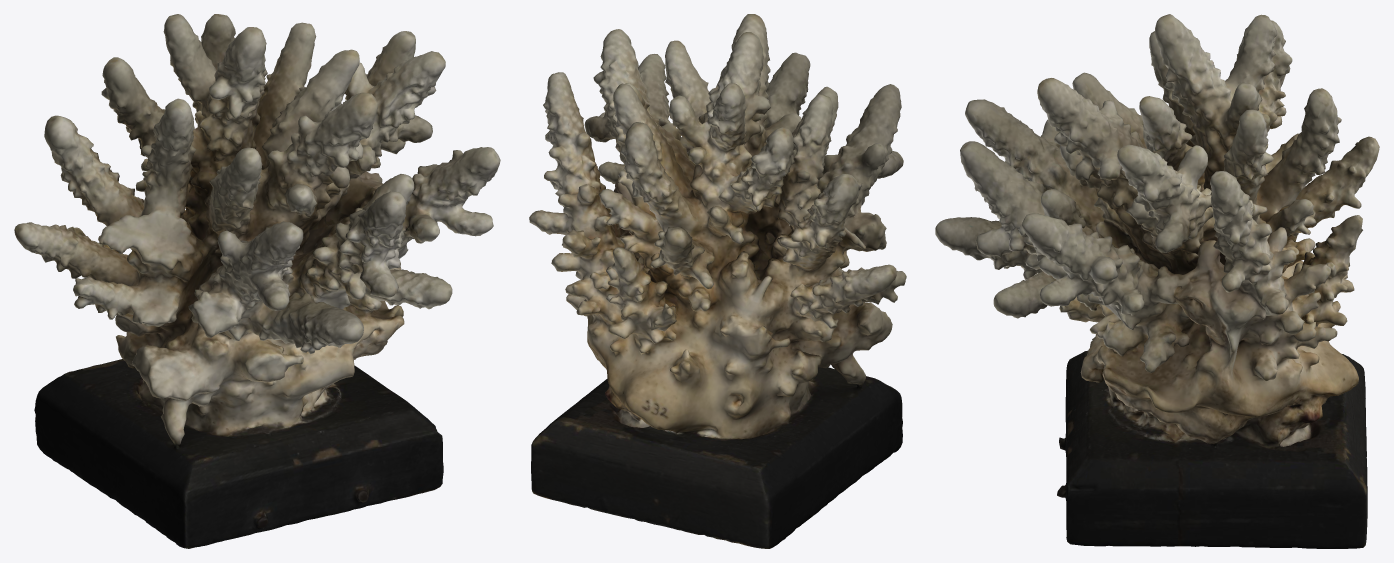
Rendered from usnm_332-100k-2048_std_draco.glb.
The picture shows the model from 3 angles, left to right: view 1: azimuth 30°, elevation 25°; view 2: azimuth 150°, elevation 25°; view 3: azimuth 270°, elevation 25°; orthographic projection. The views are drawn at different scales.
Size of the model in its own units: 0.0954 by 0.1081 by 0.0933.
1 material, 1 textured.
